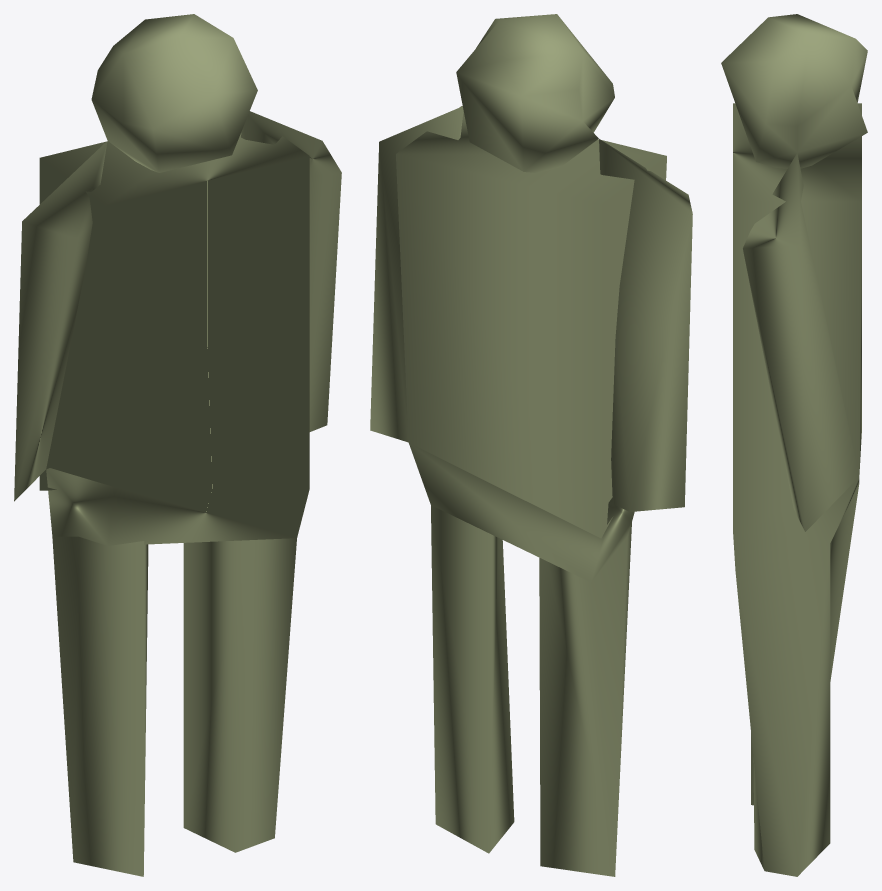
The model's file is trooper.lod2.glb.
3 renders of one model, left to right at view 1: azimuth 30°, elevation 25°; view 2: azimuth 150°, elevation 25°; view 3: azimuth 270°, elevation 25°, orthographic. The views are drawn at different scales.
Bounding box in the file's own units: 0.6893 × 1.73 × 0.2844.
